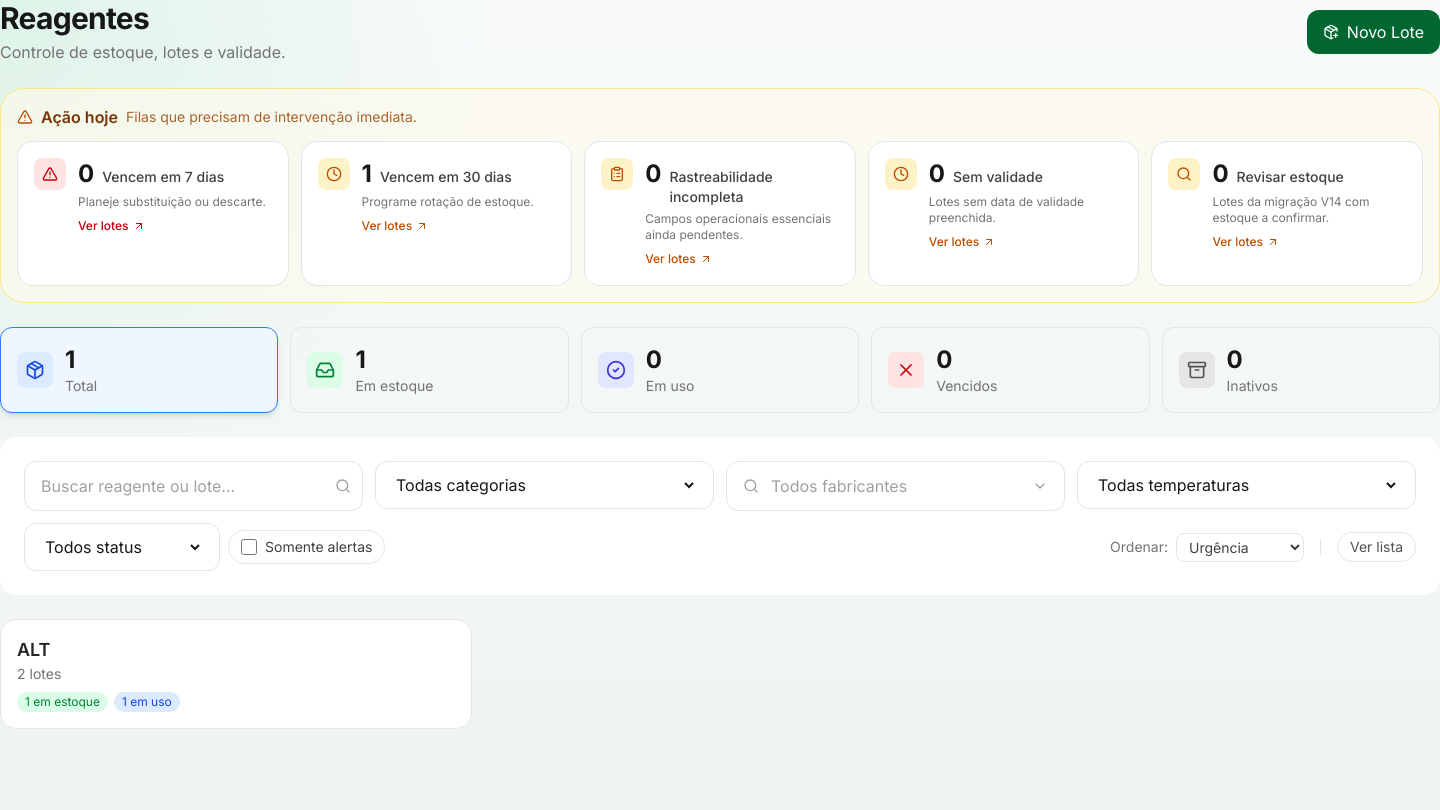
ReagentesTab v3 › arquivar abre modal explicito (nao window.confirm)
Click the button "Ver lista" at (1376, 547), box [1337,532,1416,562]
(page scrolled)
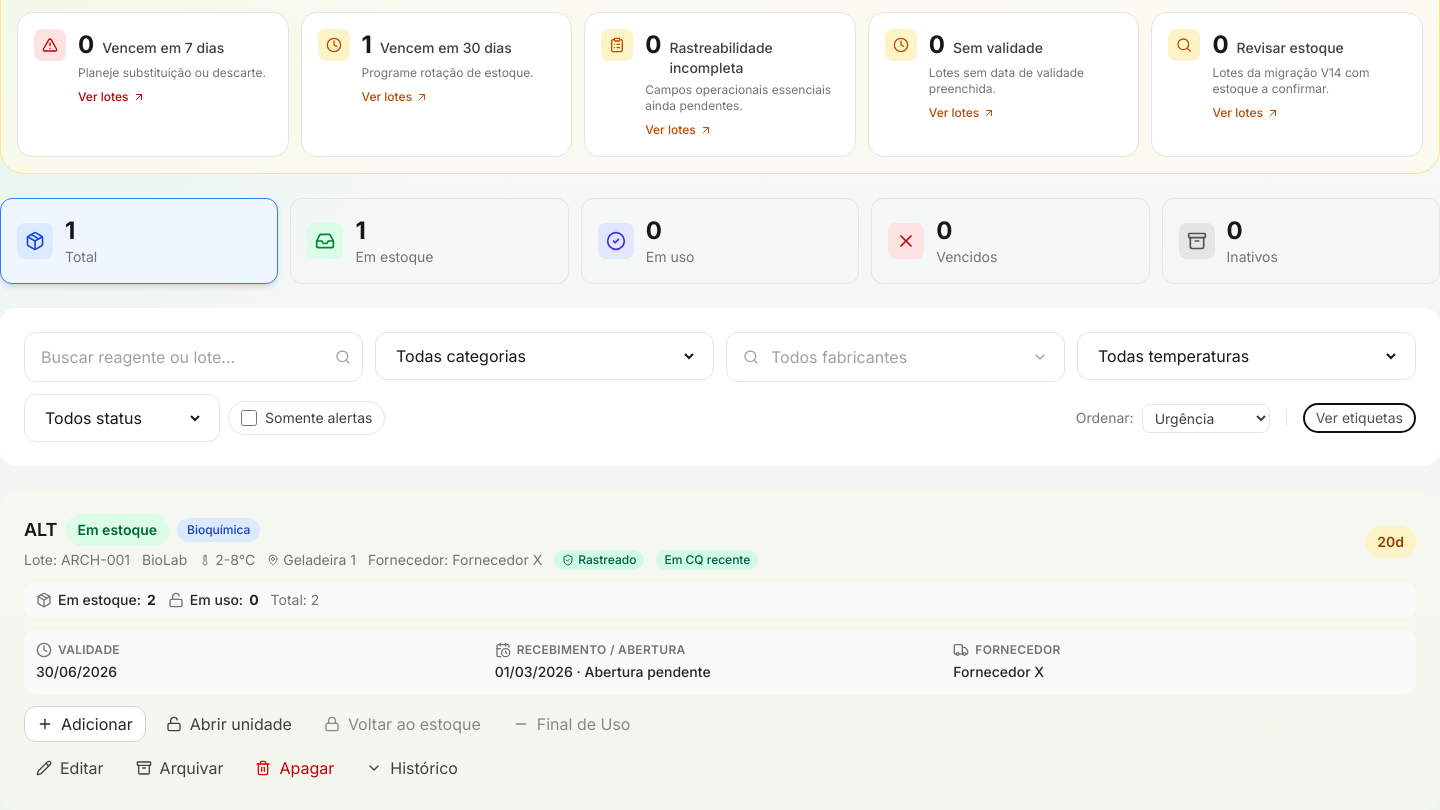
Click the button "Arquivar" at (180, 768), box [124,750,236,786]
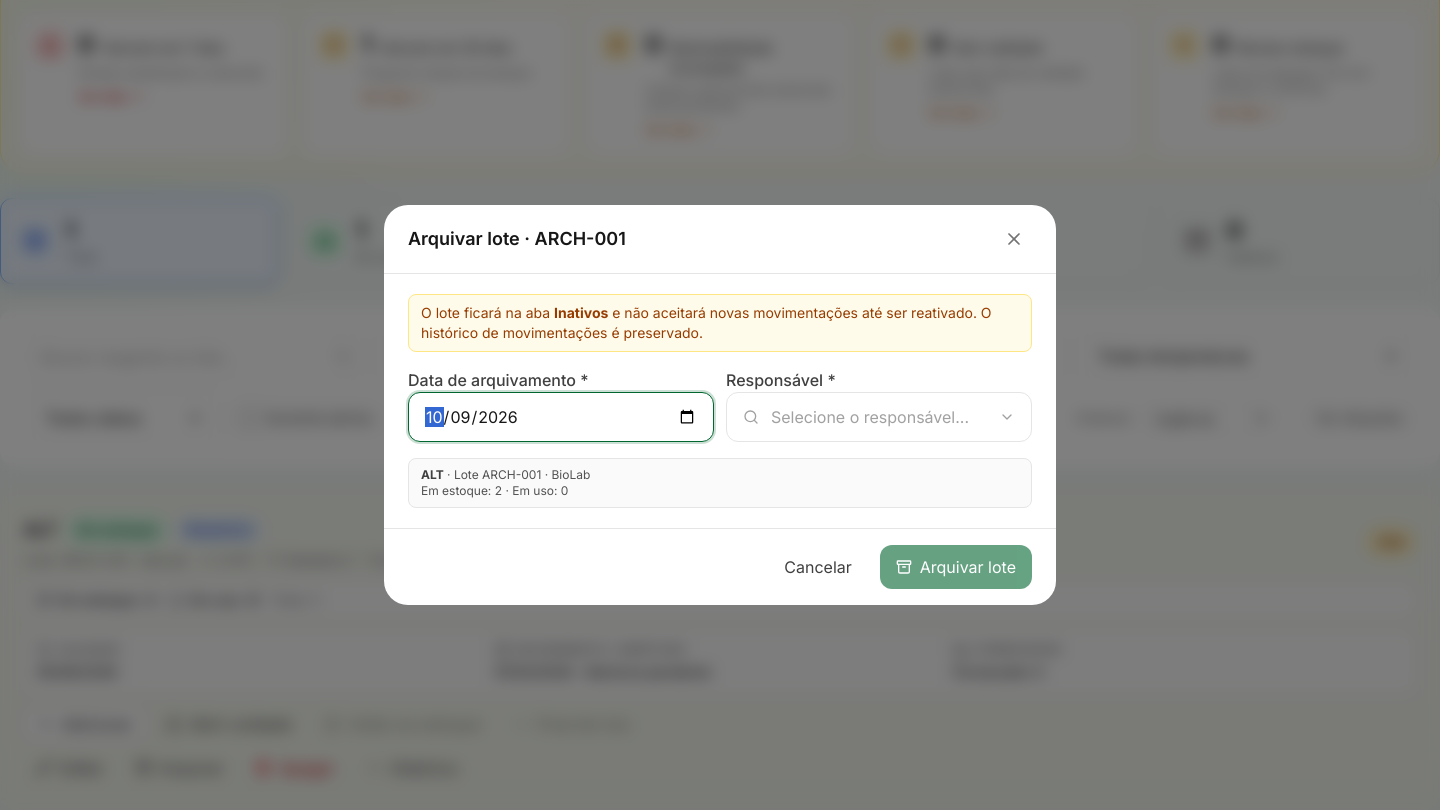
Check: the text "Data de arquivamento *" is shown, box [408,370,588,390]
Check: the dropdown labelled "Responsável *" is shown, box [771,405,987,429]
